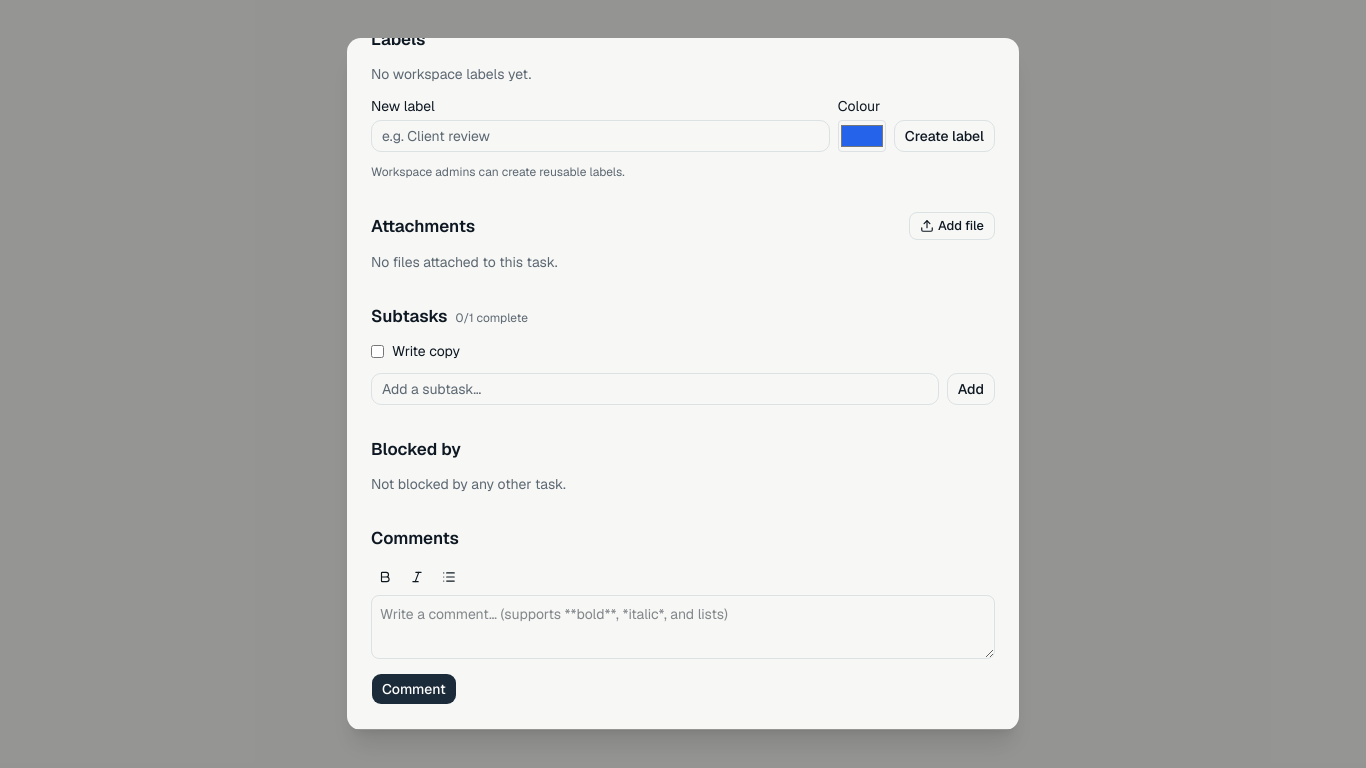
Test: TaskDetailDialog subtasks › adds a subtask
(page scrolled)
Expected: the text "Write copy" is shown, [392, 341, 460, 361]
In the field named "Add subtask": (655, 389) [371, 373, 939, 405], type "Review"
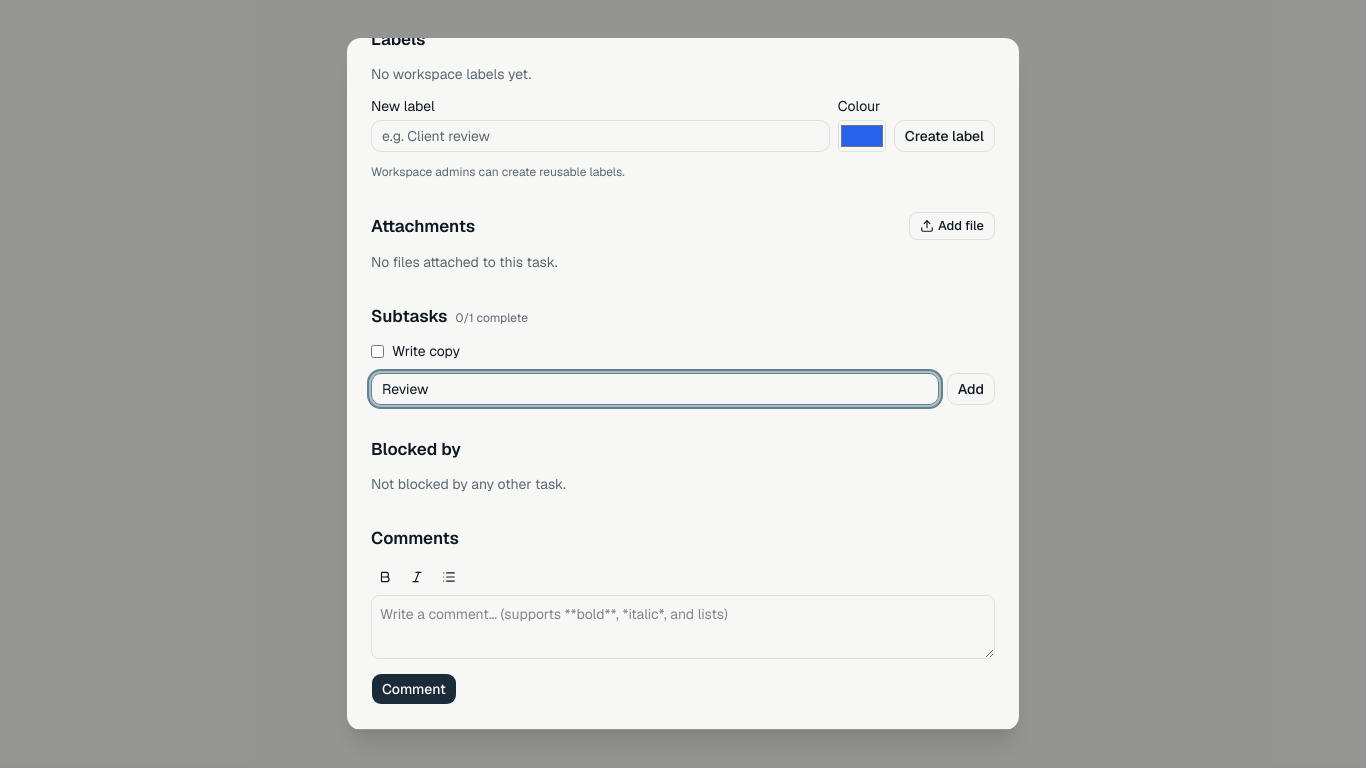
Click the button "Add": (971, 389) [947, 373, 995, 405]
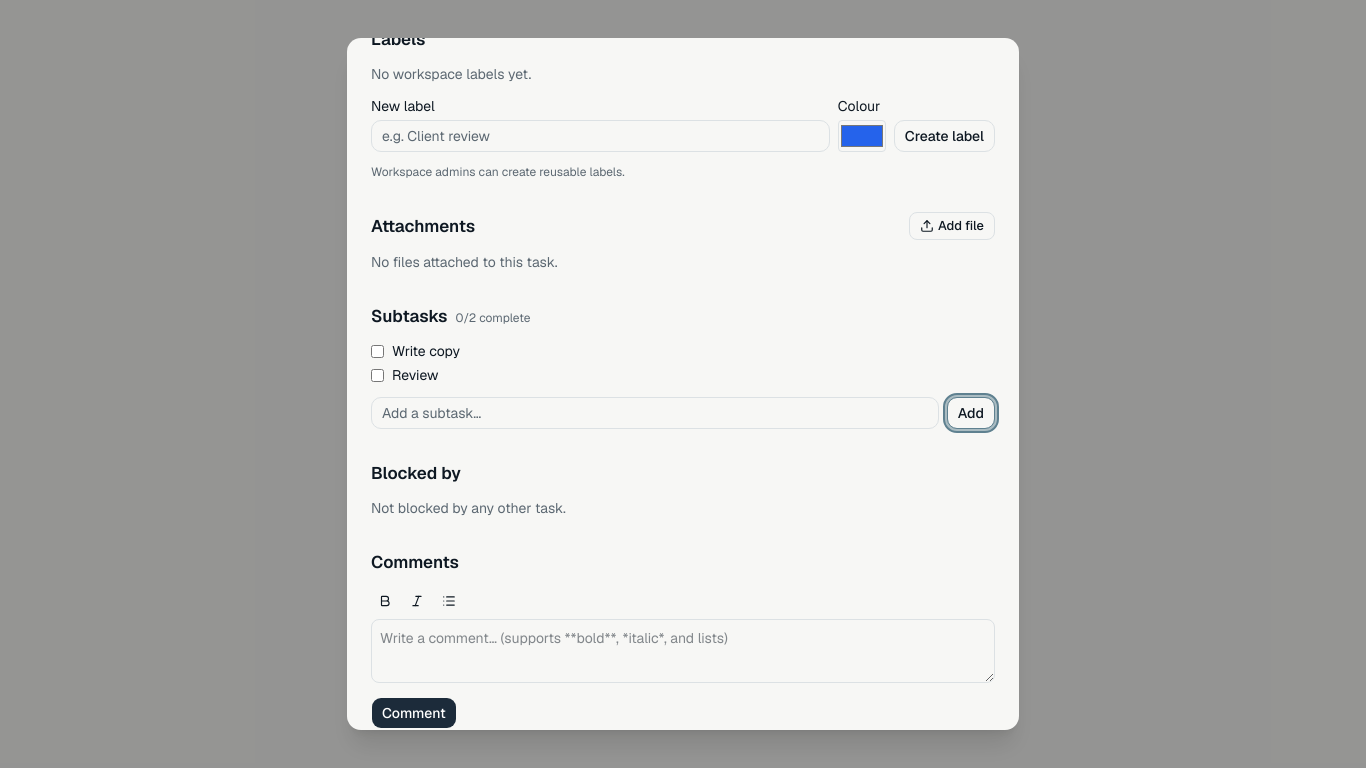
Result: the text "Review" is shown at [392, 365, 438, 385]
